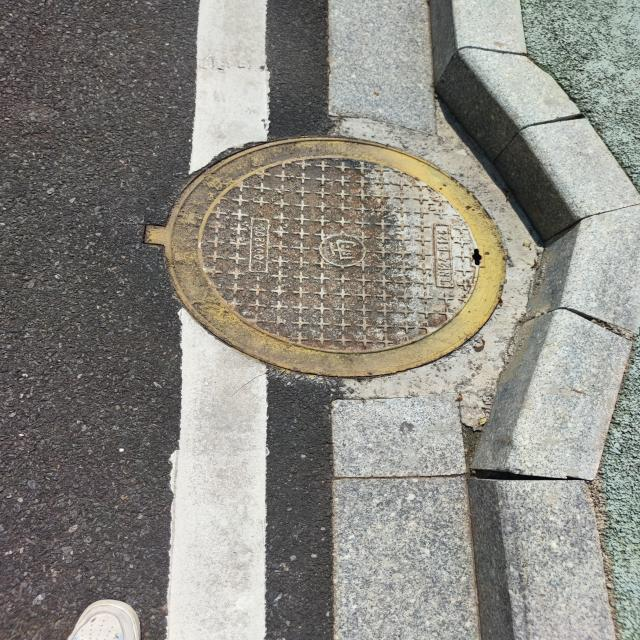Good: (137, 132, 515, 382)
